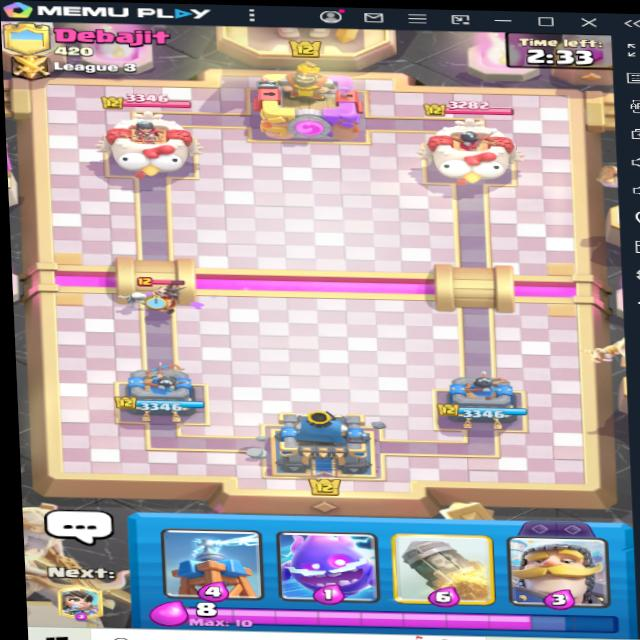Ewiz: (147, 277, 185, 311)
